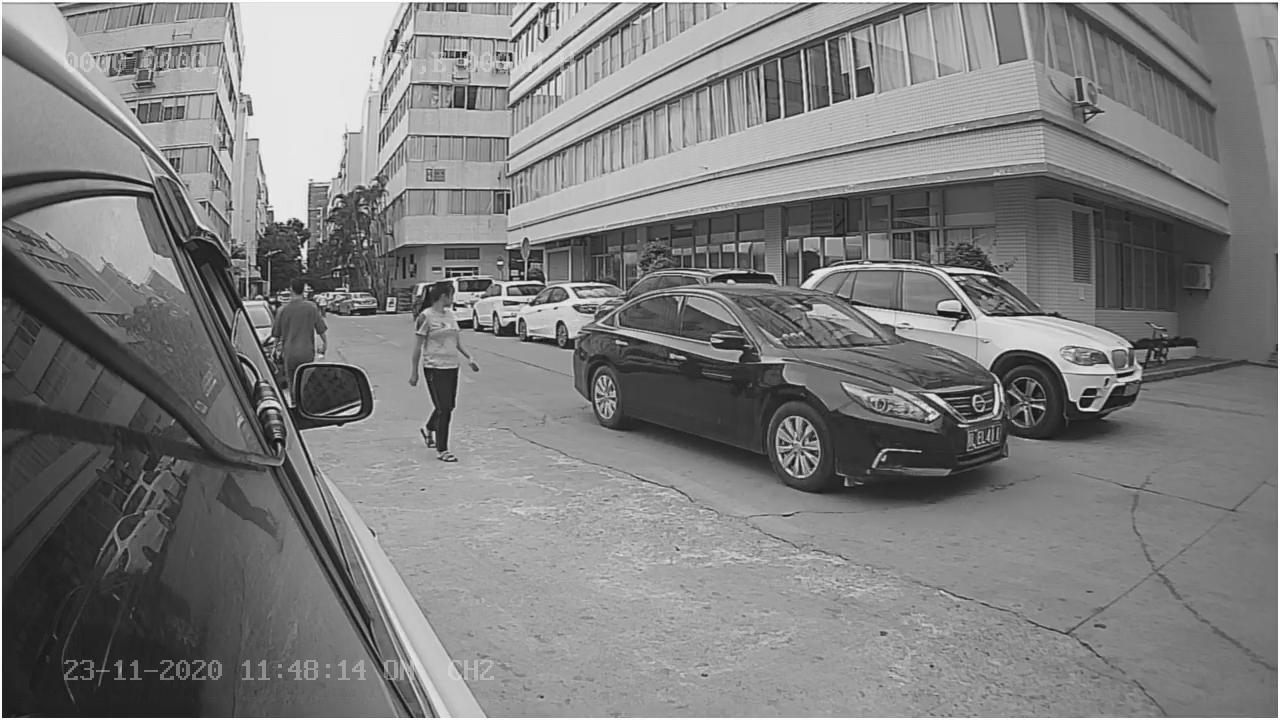person: (402, 274, 477, 467)
